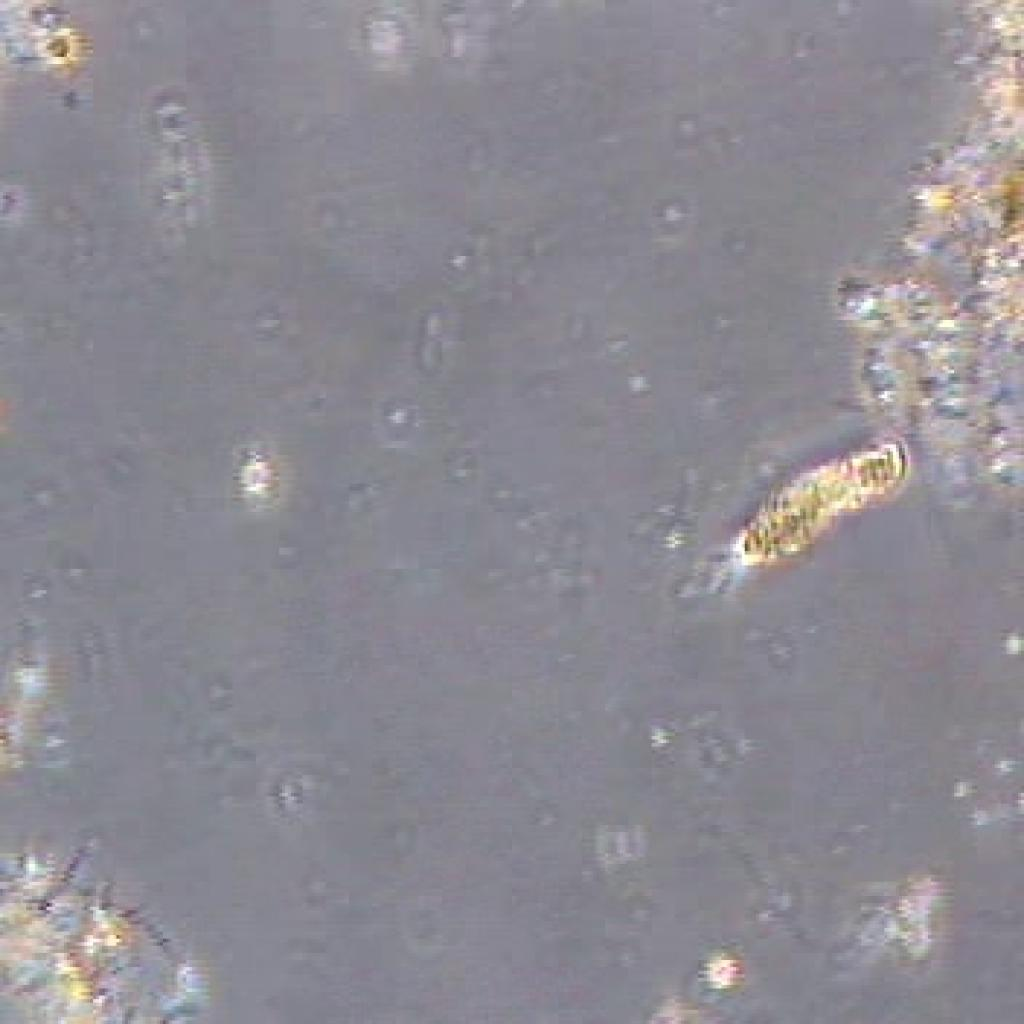Chaetonotus: (711, 423, 915, 594)
